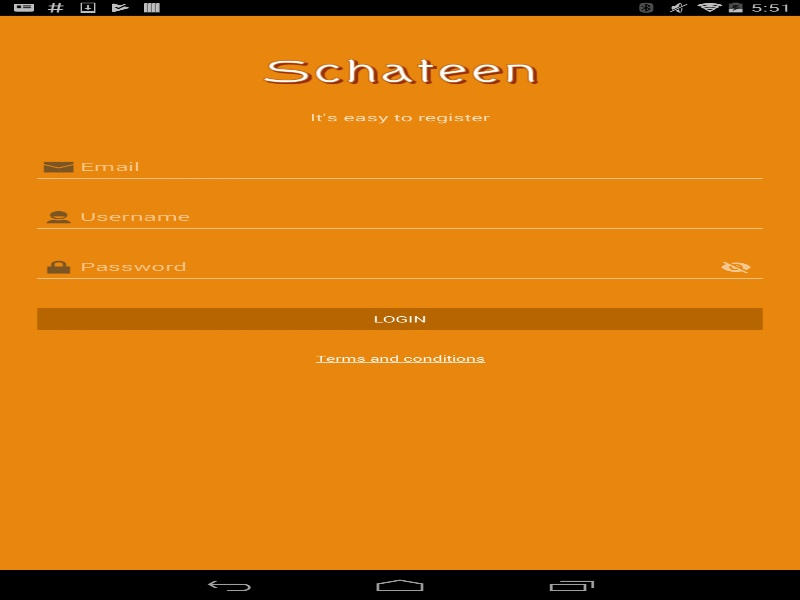Button: (32, 304, 768, 334), (704, 252, 768, 282)
Input: (32, 150, 768, 184), (32, 200, 768, 234), (32, 250, 768, 284)
